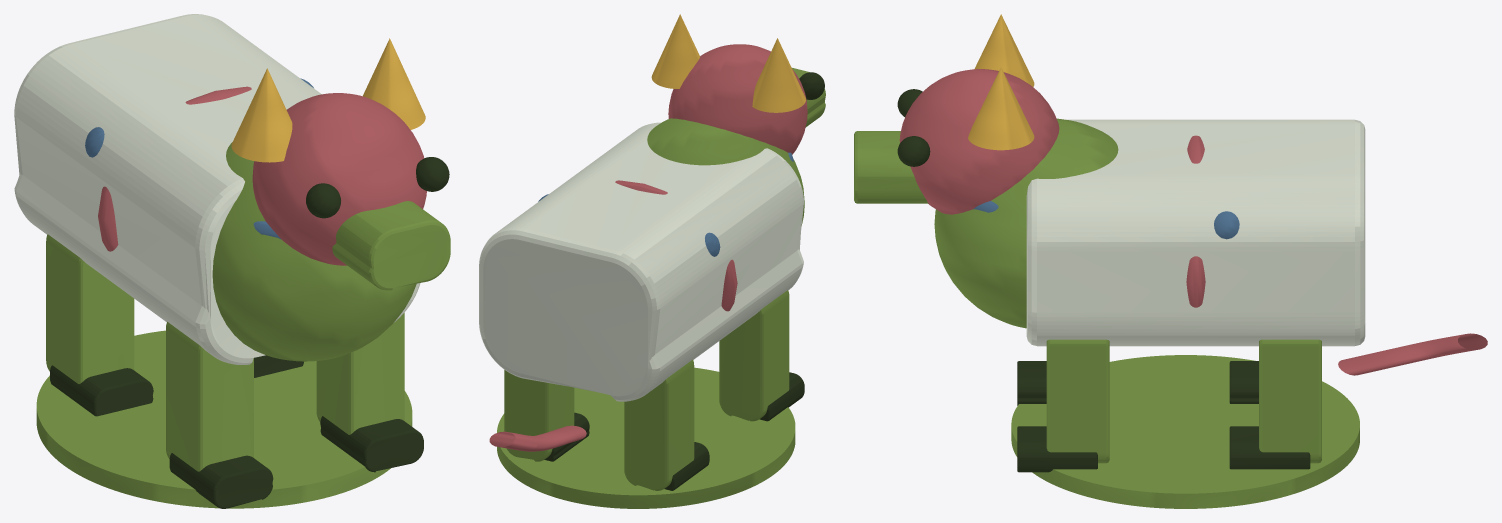
The model's file is 0839_两栖动物图鉴_角蛙.glb.
3 views of the same model, side by side, from view 1: azimuth 30°, elevation 25°; view 2: azimuth 150°, elevation 25°; view 3: azimuth 270°, elevation 25° (orthographic). The views are drawn at different scales.
Visible parts, largest first — view 1: card_0839; view 2: card_0839; view 3: card_0839.
Boxes of the visible parts, x1,y1,x2,y2 form: card_0839: [14, 14, 450, 508]; card_0839: [479, 14, 825, 508]; card_0839: [854, 14, 1487, 508].
Size of the model in its own units: 0.7451 by 1 by 1.44.
